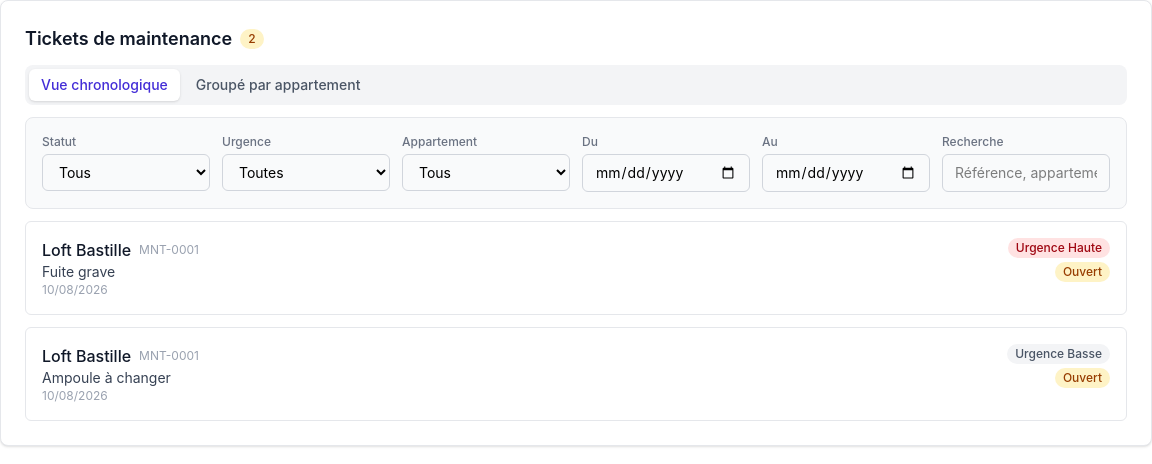
Scenario: TicketsMaintenanceSection › filtre les tickets par urgence
Expected: the text "Fuite grave" is shown, [42,263,115,280]
Expected: the text "Ampoule à changer" is shown, [42,369,171,386]
Select "Haute" in the dropdown labelled "Urgence": x=306, y=172 [222,154,390,191]
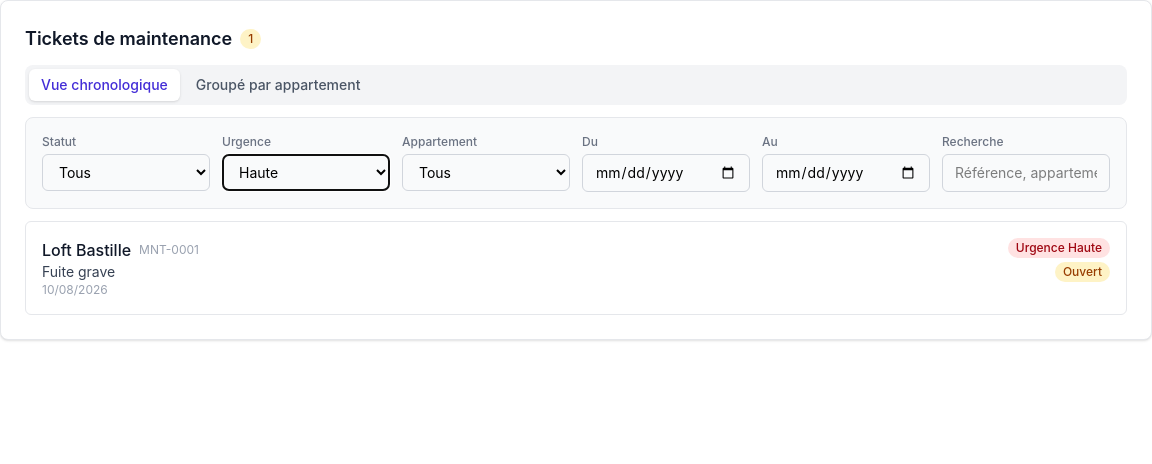
Expected: the text "Fuite grave" is shown, [42,263,115,280]
Now the button "Ampoule à changer" is gone
